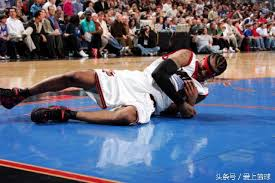10+: (1, 1, 275, 129)
down: (7, 41, 227, 125)
